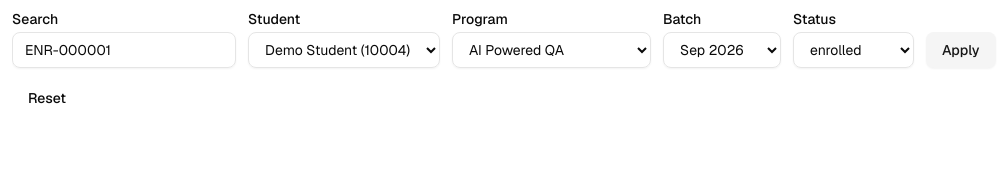
EnrollmentFilters — Program/Batch dependency › (8) changing Program clears an incompatible Batch immediately, client-side
Expected: the dropdown labelled "Batch" shows "Sep 2026", [663,32,781,68]
Select "Full Stack Development" in the dropdown labelled "Program": (552, 50) [452,32,651,68]
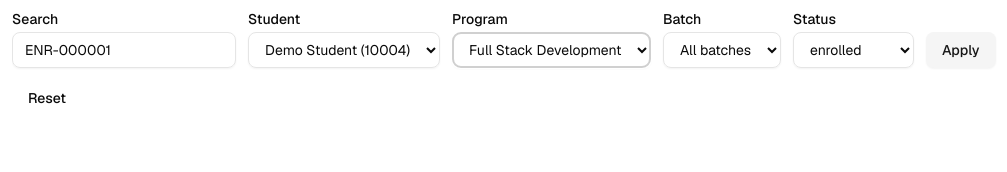
Expected: the dropdown labelled "Batch" shows "All batches", [663,32,781,68]
